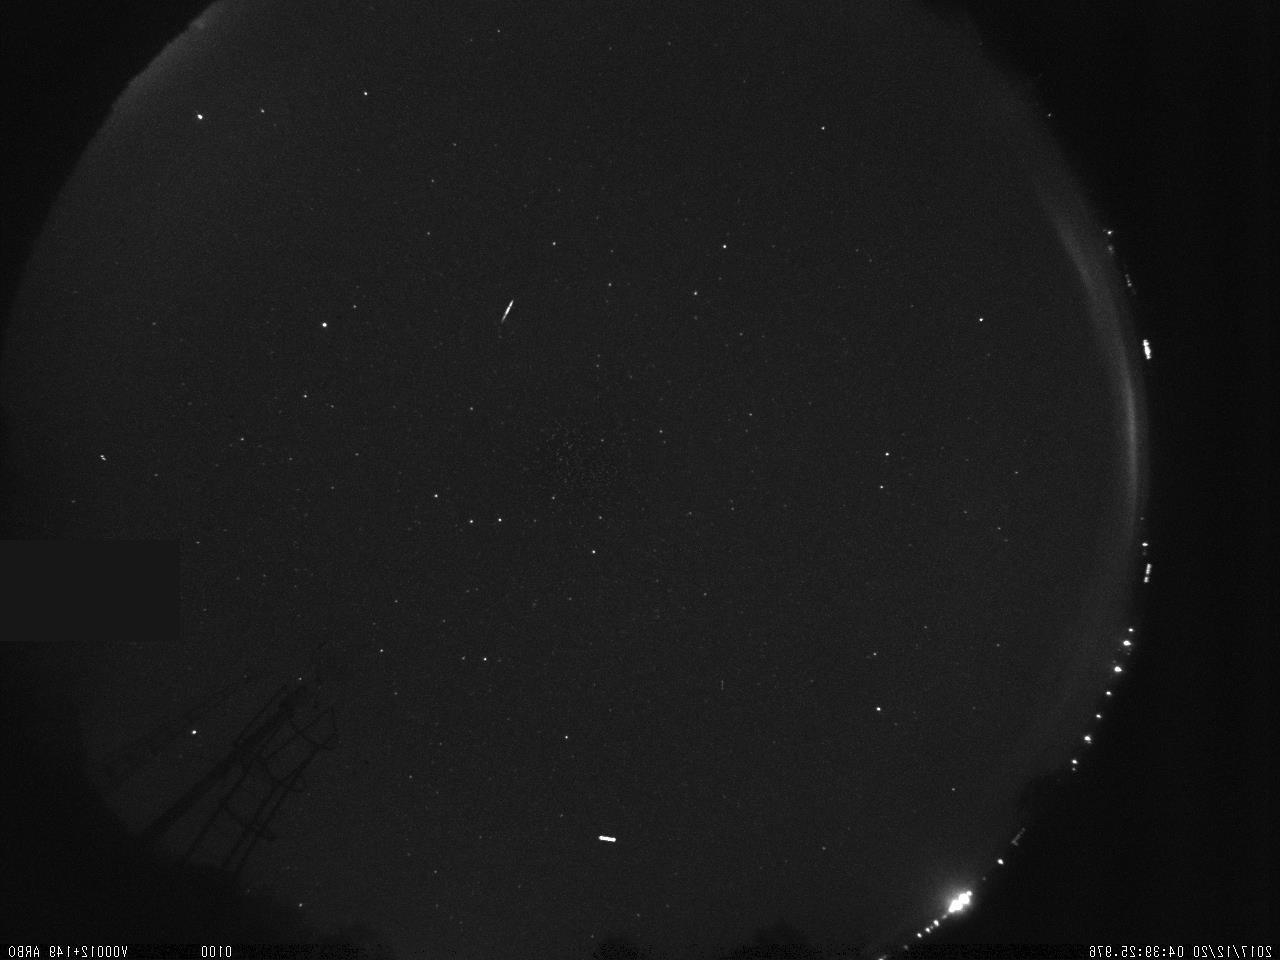meteor: (496, 291, 519, 326)
satelite: (591, 824, 621, 855)
